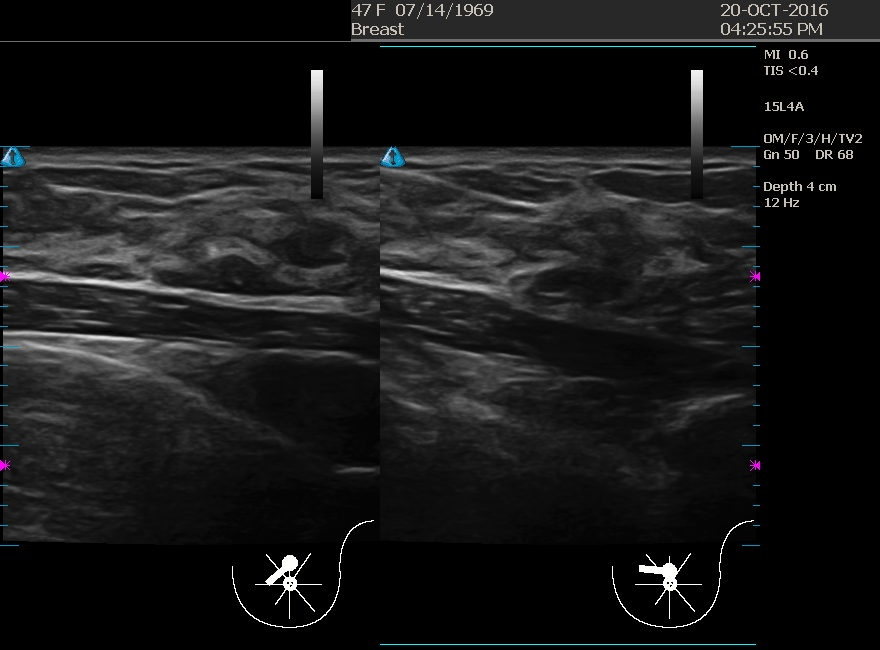Benign: (129, 211, 329, 411), (479, 181, 679, 381)
